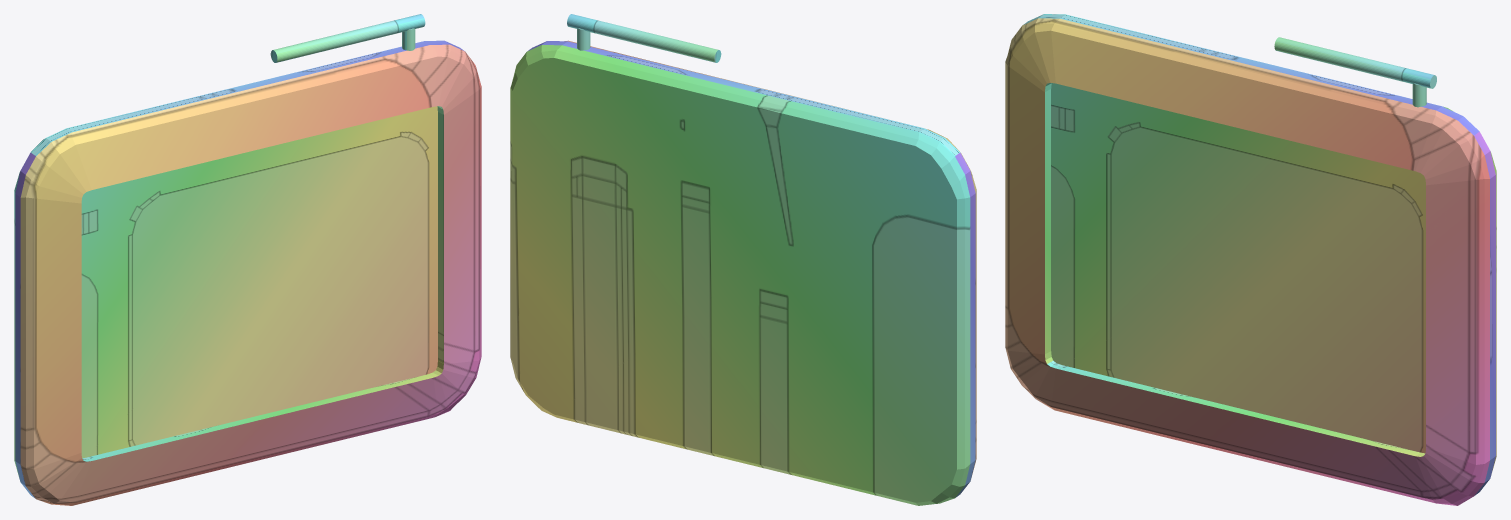
Rendered from linkingcard.obj.
3 renders of one model, left to right at view 1: azimuth 30°, elevation 25°; view 2: azimuth 150°, elevation 25°; view 3: azimuth 330°, elevation 25°, orthographic. The views are drawn at different scales.
Visible parts, largest first — view 1: Cylinder; view 2: Cylinder; view 3: Cylinder.
Part boxes in pixels (x1,y1,x2,y2): Cylinder: (14, 14, 481, 505); Cylinder: (510, 14, 976, 505); Cylinder: (1005, 14, 1496, 505).
Size of the model in its own units: 0.4442 by 0.3725 by 0.0393.
